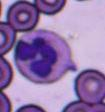N: (15, 29, 72, 84)
